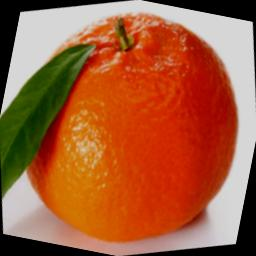Orange Ripe: (0, 0, 256, 253)
